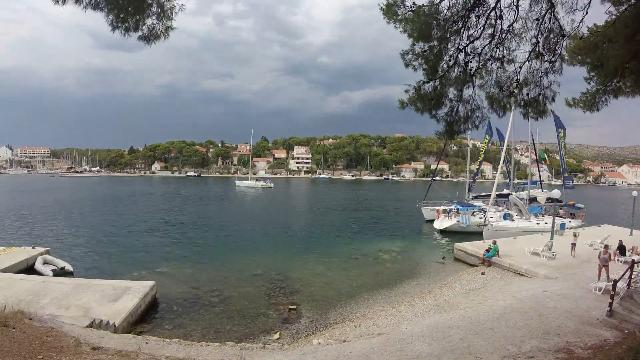Freighter: (56, 162, 106, 180)
Sailboat: (230, 174, 278, 192)
